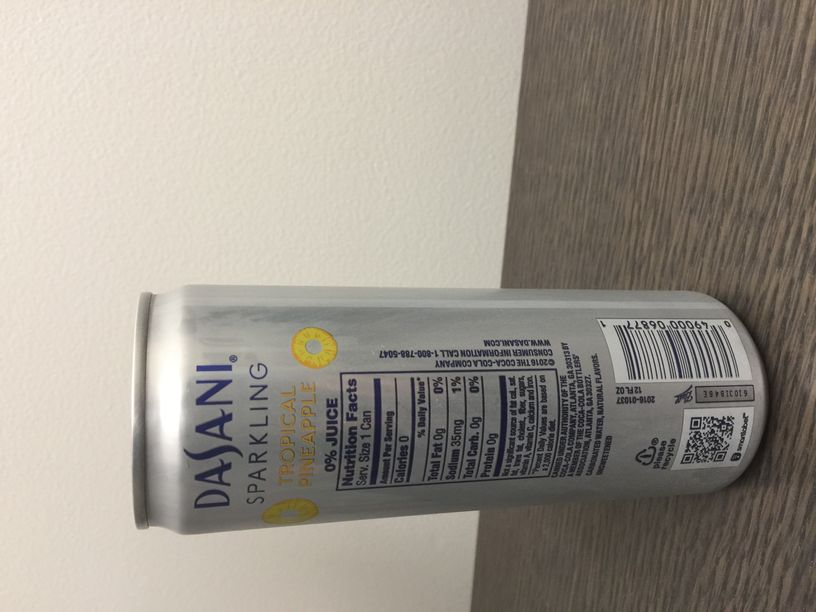pineapple: (131, 284, 768, 533)
